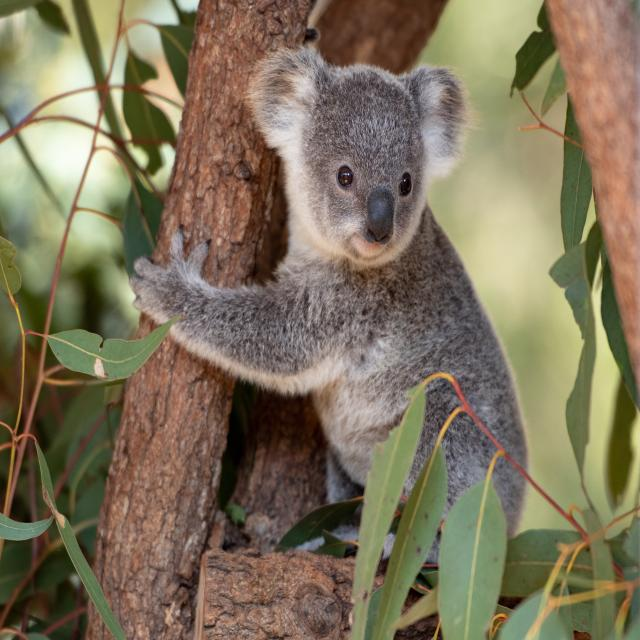Koala: (146, 44, 529, 594)
